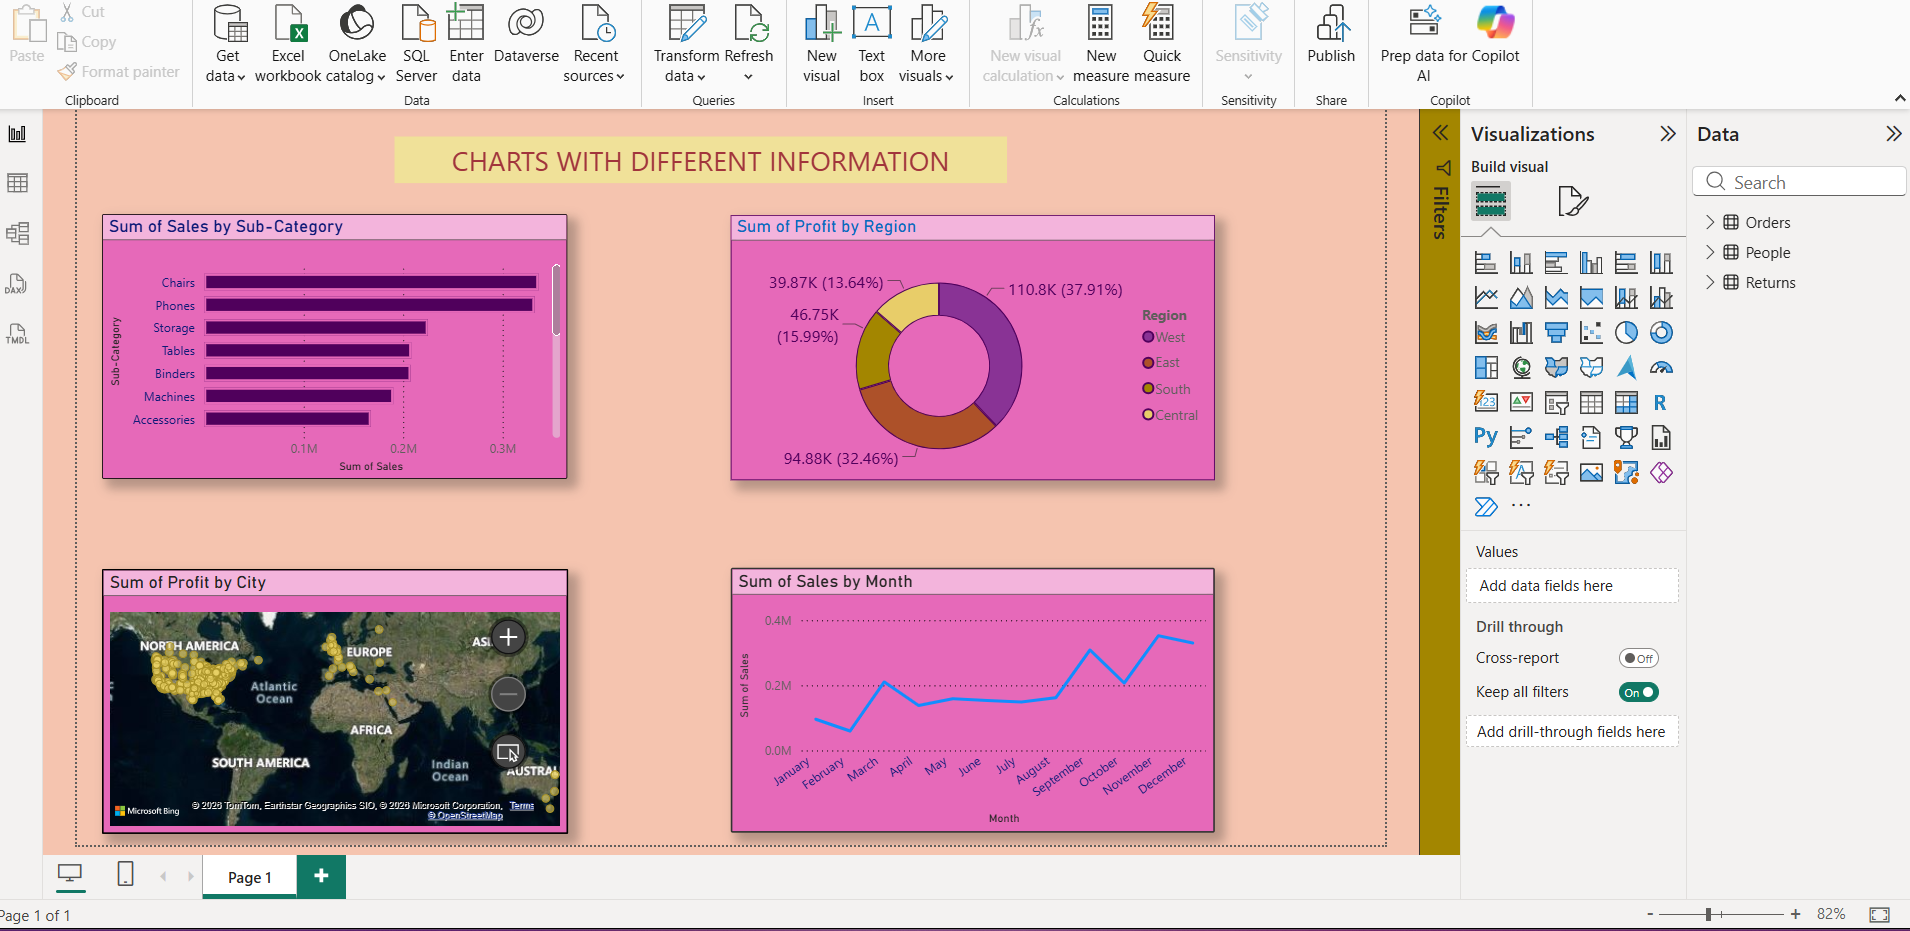

Layout of this report page (visuals, bound fields, positions):
{"tool":"powerbi","page":{"name":"Page 1","canvas":[1280,720],"ordinal":0},"visuals":[{"type":"barChart","fields":{"Category":["Orders.Sub-Category"],"Y":["Sum(Orders.Sales)"]},"box":[24.7,102.9,455.6,259.3],"z":0},{"type":"donutChart","fields":{"Category":["Orders.Region"],"Y":["Sum(Orders.Profit)"]},"box":[639.5,104.3,473.4,259.3],"z":1000},{"type":"map","fields":{"Category":["Orders.City"],"Size":["Sum(Orders.Profit)"]},"box":[24.7,450.1,456,259],"z":1001},{"type":"lineChart","fields":{"Category":["Orders.Order date.Variation.Date Hierarchy.Month"],"Y":["Sum(Orders.Sales)"]},"box":[639.5,448.7,473.4,259.3],"z":1002},{"type":"textbox","box":[310.6,26.9,599.2,45.2],"z":1003}]}

Visuals, with their boxes on the page's 1280x720 design canvas (x1, y1, x2, y2). These are canvas units, not pixel positions in the 1910x931 screenshot, which may show the page scaled, cropped or inside an application window:
barChart - Orders.Sub-Category x Sum(Orders.Sales): left=25, top=103, right=480, bottom=362
donutChart - Orders.Region x Sum(Orders.Profit): left=640, top=104, right=1113, bottom=364
map - Orders.City x Sum(Orders.Profit): left=25, top=450, right=481, bottom=709
lineChart - Orders.Order date.Variation.Date Hierarchy.Month x Sum(Orders.Sales): left=640, top=449, right=1113, bottom=708
textbox: left=311, top=27, right=910, bottom=72
